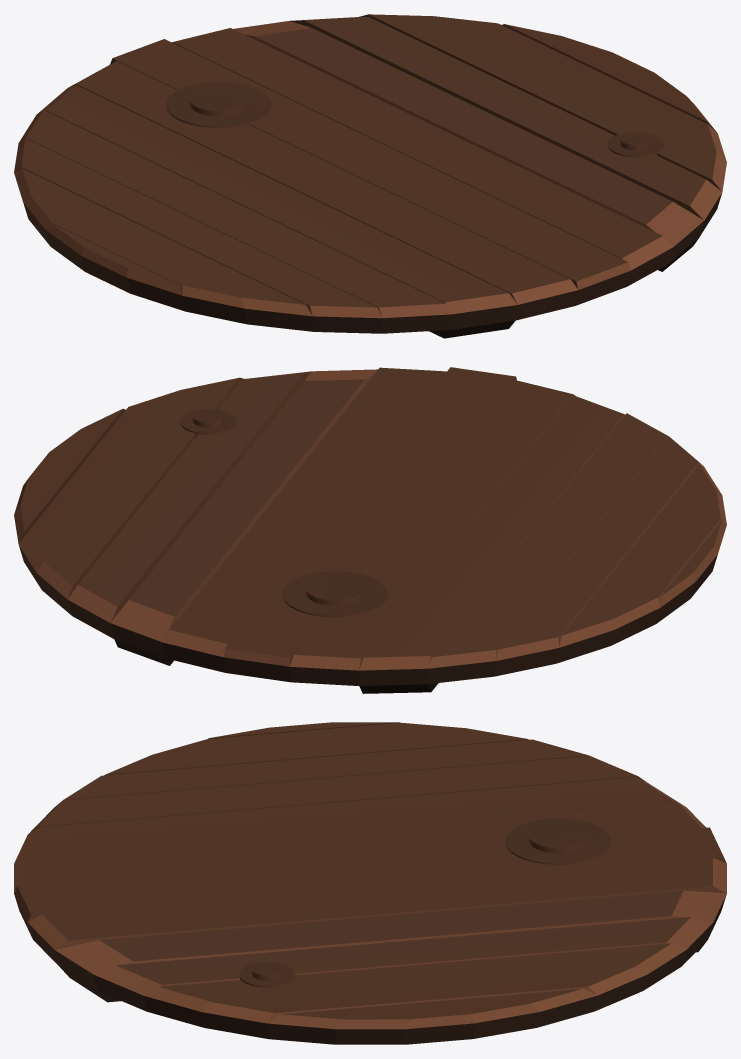
Rendered from Small Dark Barrel Lid.fbx.
3 views of the same model, one above another, from view 1: azimuth 30°, elevation 25°; view 2: azimuth 150°, elevation 25°; view 3: azimuth 270°, elevation 25° (orthographic).
Parts seen in each view (by area): view 1: Small Dark Barrel Lid; view 2: Small Dark Barrel Lid; view 3: Small Dark Barrel Lid.
Boxes of the visible parts, <box> form: Small Dark Barrel Lid: <box>14,14,726,338</box>; Small Dark Barrel Lid: <box>14,367,726,693</box>; Small Dark Barrel Lid: <box>14,722,726,1044</box>.
Size of the model in its own units: 12.67 by 185 by 185.
1 material, 1 textured.
